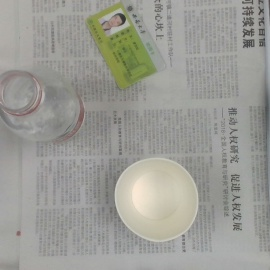bottle: (1, 68, 89, 148)
card: (85, 1, 166, 90)
cup: (114, 157, 199, 242)
